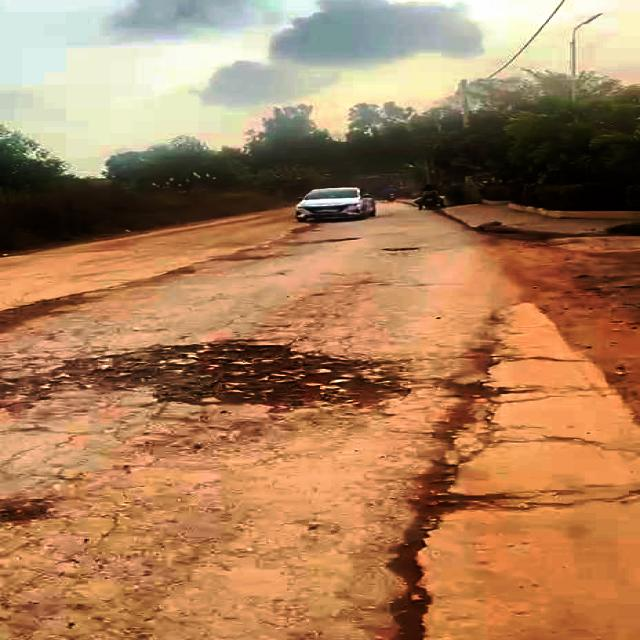pothole: (44, 334, 426, 417)
